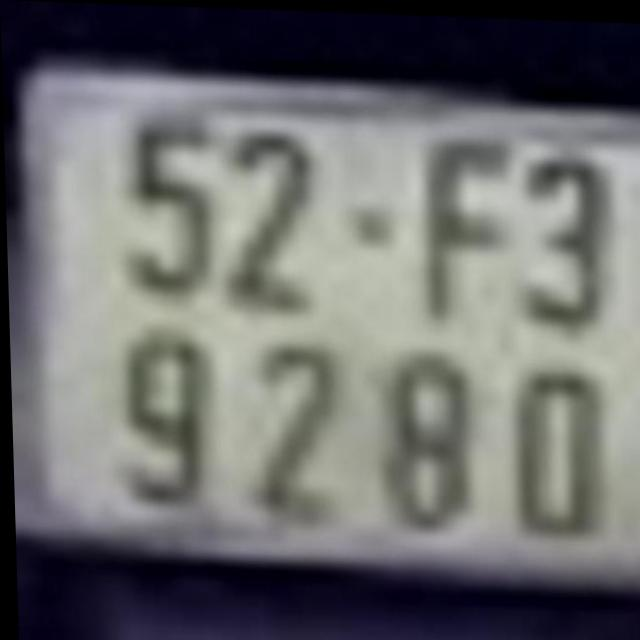0: (498, 344, 605, 542)
2: (248, 327, 343, 524), (221, 124, 315, 310)
3: (523, 134, 614, 338)
5: (123, 110, 215, 299)
8: (372, 332, 470, 534)
9: (118, 327, 214, 514)
F: (410, 125, 520, 328)
